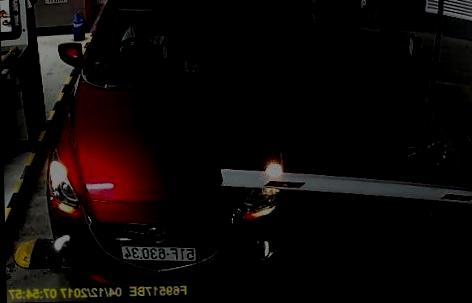License_Plate: (113, 237, 200, 264)
